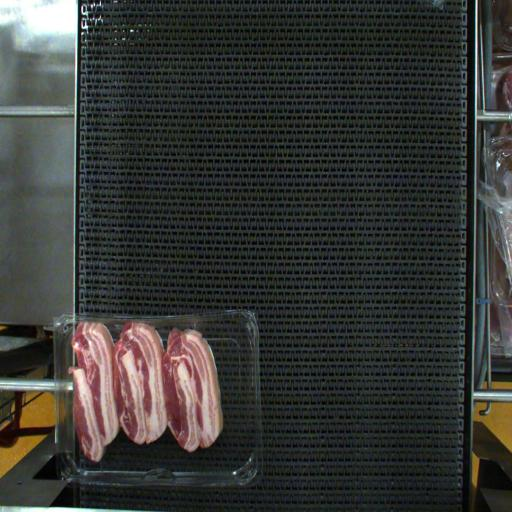packaging-error: (66, 304, 208, 352)
